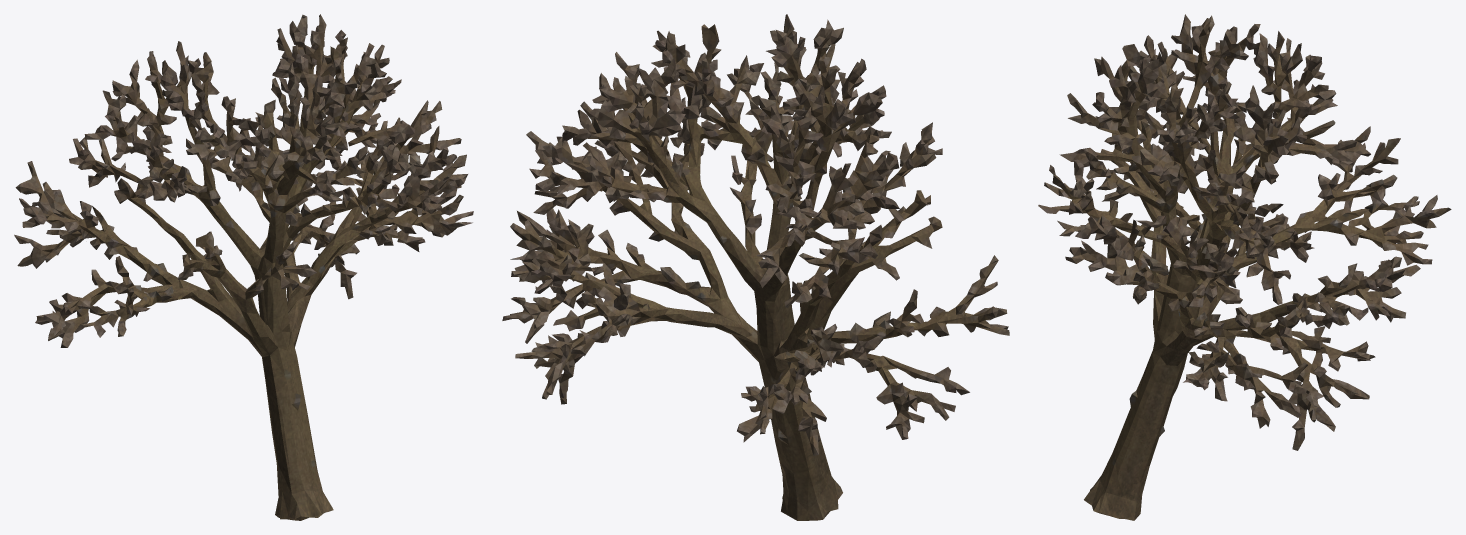
The model's file is tree_trunk.fbx.
3 renders of one model, left to right at view 1: azimuth 30°, elevation 25°; view 2: azimuth 150°, elevation 25°; view 3: azimuth 270°, elevation 25°, orthographic. The views are drawn at different scales.
Visible parts, largest first — view 1: Mesh_0; view 2: Mesh_0; view 3: Mesh_0.
Boxes of the visible parts, x1,y1,x2,y2 form: Mesh_0: (14,14,473,520); Mesh_0: (502,14,1009,520); Mesh_0: (1038,14,1451,520).
Bounding box in the file's own units: 6.75 × 7 × 5.59.
Materials: 1 (1 with a texture image).
